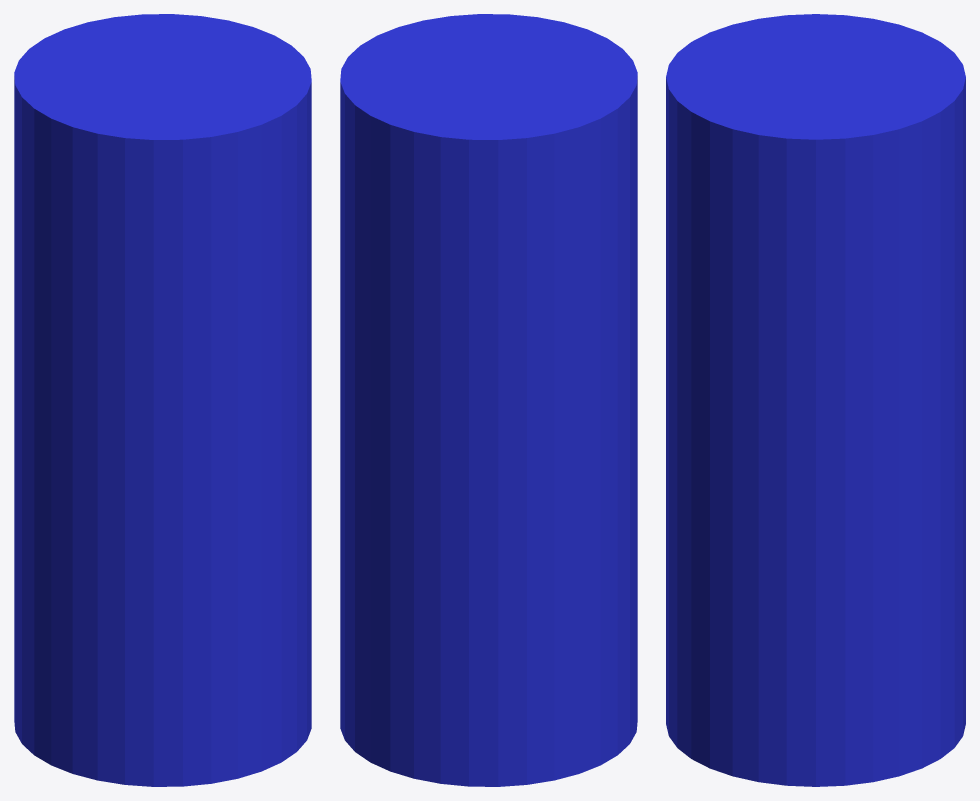
Rendered from WaterBottle.glb.
The picture shows the model from 3 angles, left to right: view 1: azimuth 30°, elevation 25°; view 2: azimuth 150°, elevation 25°; view 3: azimuth 270°, elevation 25°; orthographic projection.
Parts seen in each view (by area): view 1: Cylinder; view 2: Cylinder; view 3: Cylinder.
Part boxes in pixels (x1,y1,x2,y2): Cylinder: [14, 14, 311, 786]; Cylinder: [340, 14, 637, 786]; Cylinder: [666, 14, 965, 786].
Size of the model in its own units: 0.1107 by 0.2655 by 0.1115.
